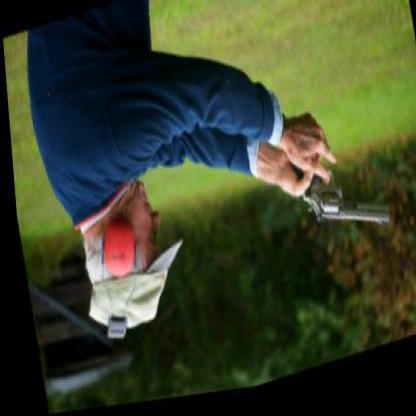pistol: (272, 91, 390, 266)
